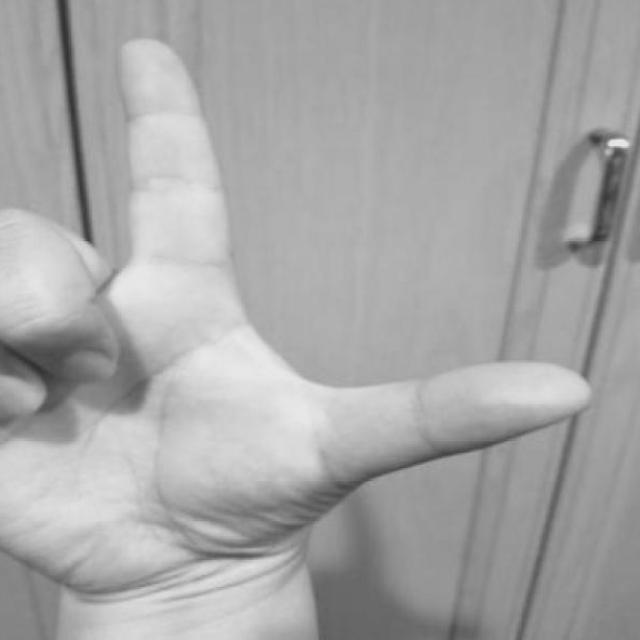L: (0, 32, 596, 640)
